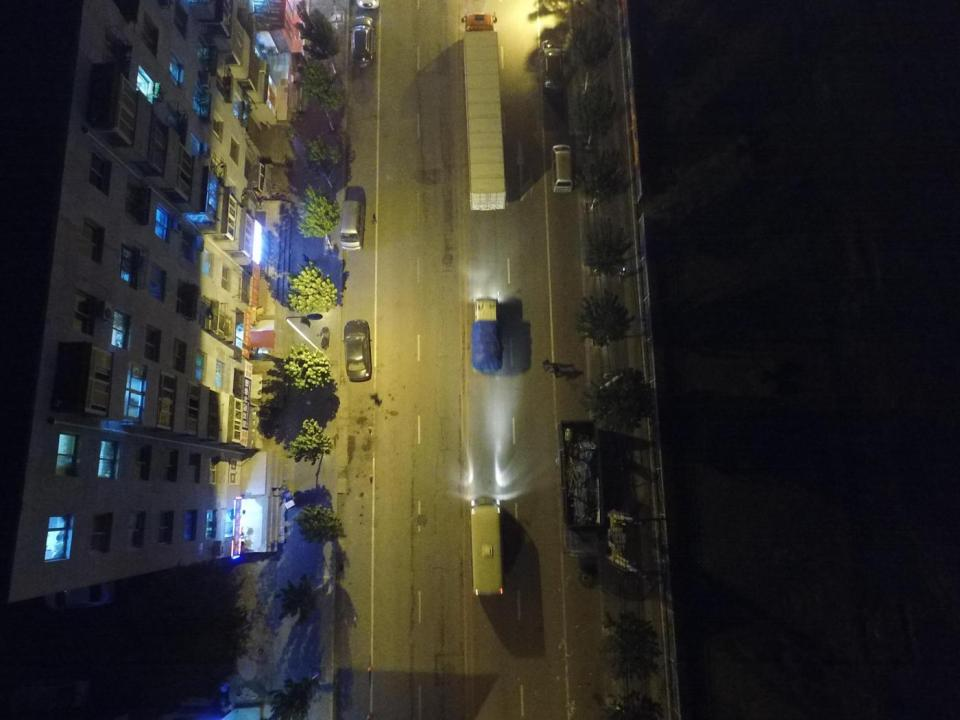car: (343, 319, 372, 382), (349, 16, 375, 67)
truck: (460, 13, 504, 210), (557, 420, 602, 558), (470, 298, 502, 373)
van: (470, 497, 502, 595), (539, 39, 565, 92), (340, 200, 364, 251), (550, 145, 572, 192)
